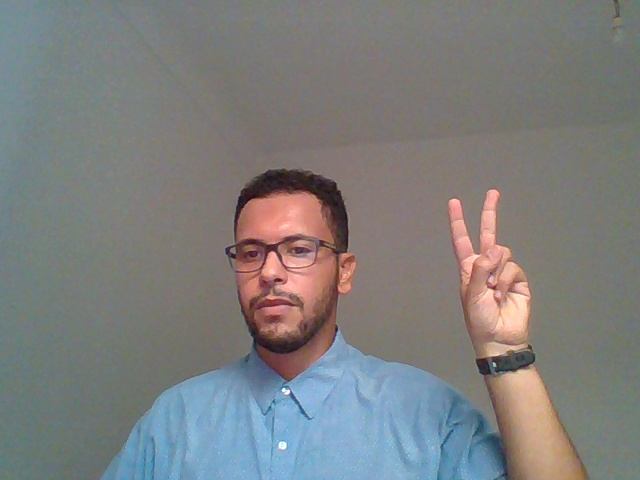vectory: (416, 165, 559, 440)
